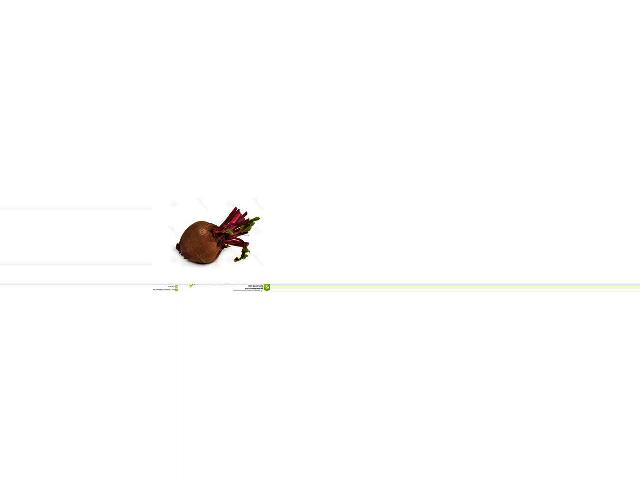beet: (175, 207, 258, 263)
